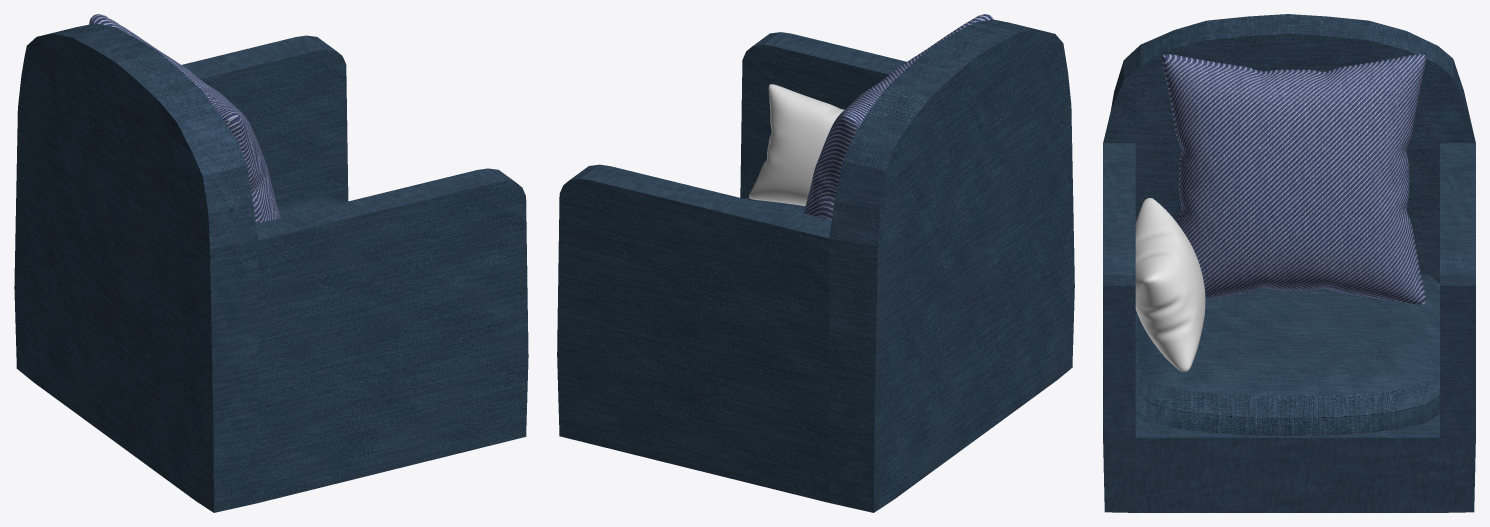
Rendered from Sillon3.fbx.
The picture shows the model from 3 angles, left to right: view 1: azimuth 30°, elevation 25°; view 2: azimuth 150°, elevation 25°; view 3: azimuth 270°, elevation 25°; orthographic projection. The views are drawn at different scales.
Parts seen in each view (by area): view 1: Base.001, Almohada.007, Cojin.002; view 2: Base.001, Almohada.008, Almohada.007; view 3: Base.001, Almohada.007, Cojin.002, Almohada.008.
Part boxes in pixels (x1,y1,x2,y2): Base.001: (14, 23, 528, 512); Almohada.007: (89, 14, 280, 223); Cojin.002: (276, 194, 344, 217); Base.001: (557, 19, 1074, 512); Almohada.008: (749, 84, 844, 206); Almohada.007: (803, 14, 993, 219); Base.001: (1103, 14, 1475, 512); Almohada.007: (1162, 54, 1425, 304); Cojin.002: (1135, 273, 1439, 435); Almohada.008: (1135, 198, 1205, 372).
Bounding box in the file's own units: 155 × 178 × 170.
Materials: 3 (3 with a texture image).
